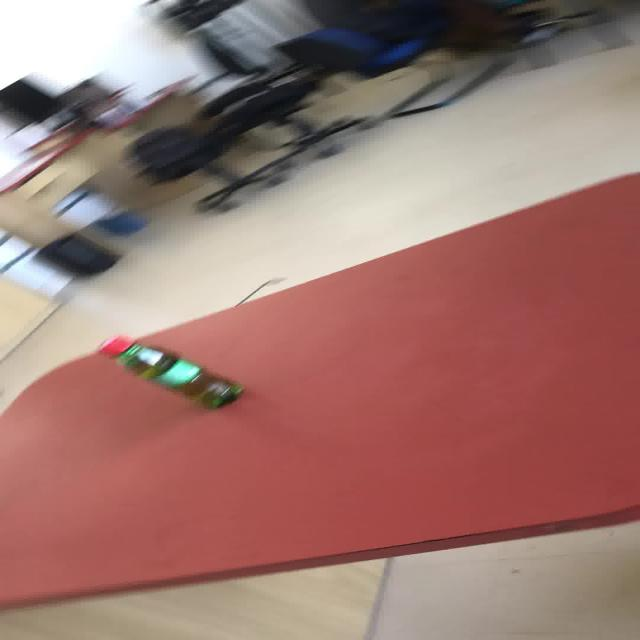guarana: (95, 333, 244, 409)
